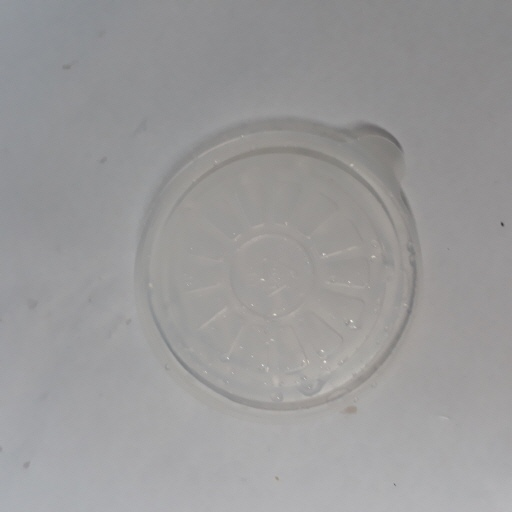Plastic_5: (131, 121, 434, 412)
